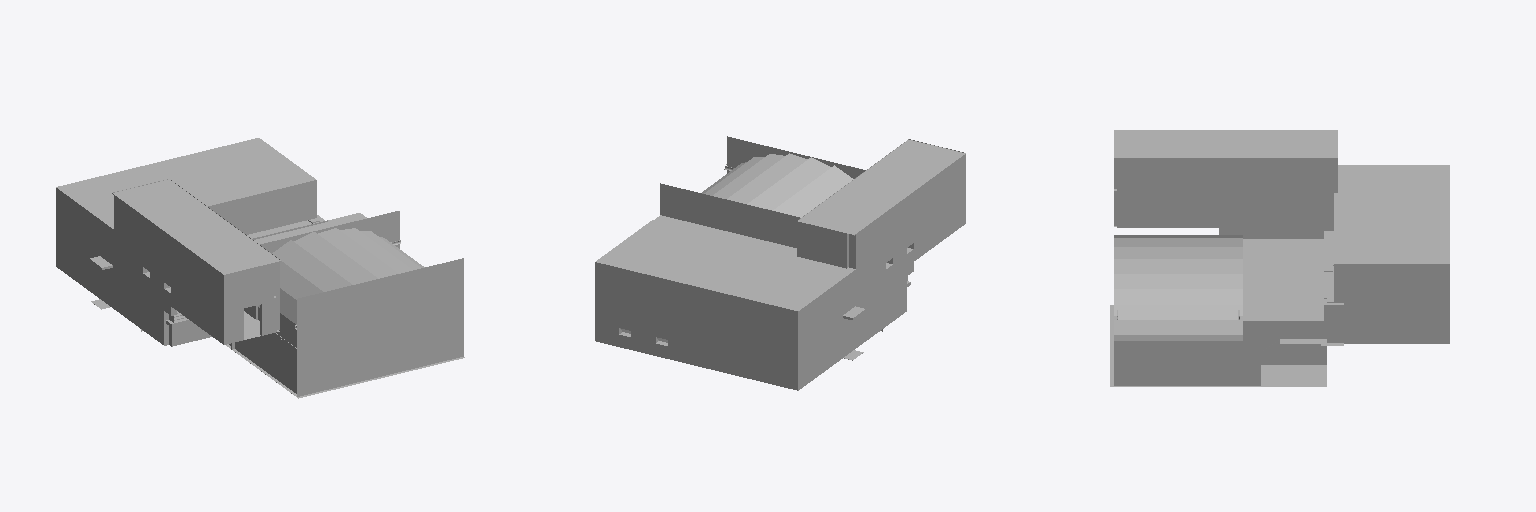
Rendered from LC_cont1_079.obj.
3 renders of one model, left to right at view 1: azimuth 30°, elevation 25°; view 2: azimuth 150°, elevation 25°; view 3: azimuth 270°, elevation 25°, orthographic.
Parts seen in each view (by area): view 1: LC_cont1_079; view 2: LC_cont1_079; view 3: LC_cont1_079.
Boxes of the visible parts, <box> form: LC_cont1_079: <box>56,138,464,398</box>; LC_cont1_079: <box>595,136,965,390</box>; LC_cont1_079: <box>1110,130,1449,386</box>.
Size of the model in its own units: 25.94 by 13.8 by 30.31.